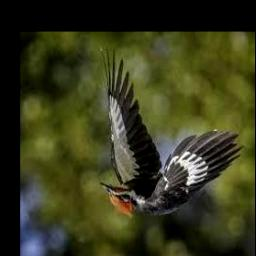Woodpecker: (100, 47, 244, 219)
